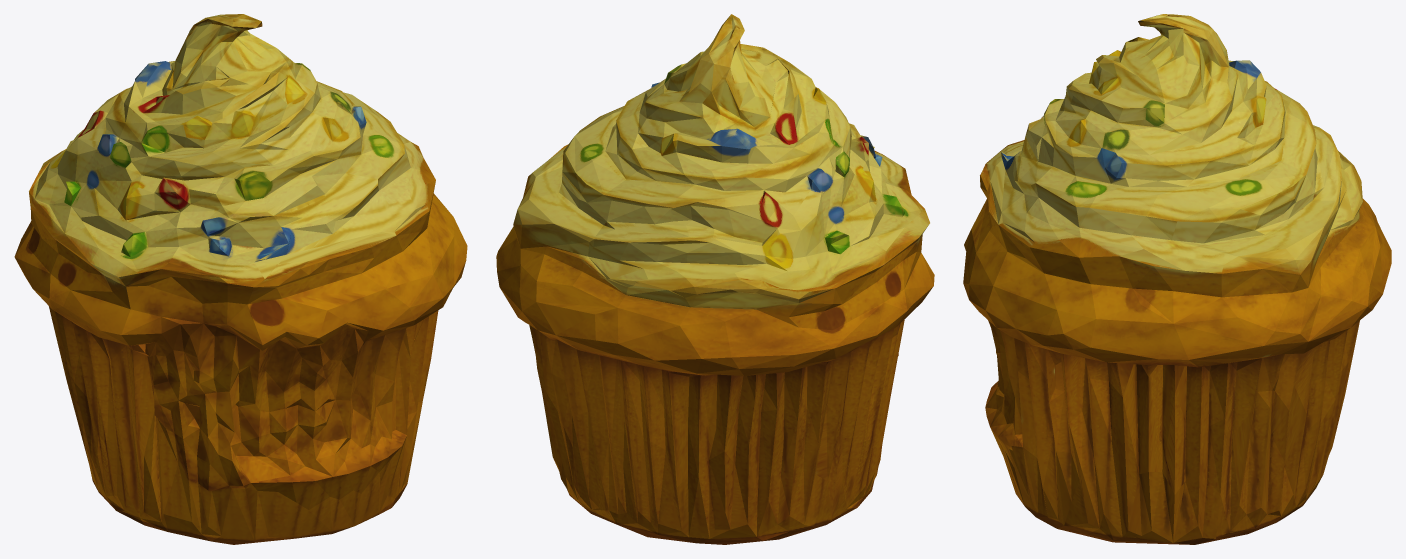
File: Cupcake.fbx
3 views of the same model, side by side, from view 1: azimuth 30°, elevation 25°; view 2: azimuth 150°, elevation 25°; view 3: azimuth 270°, elevation 25° (orthographic).
Visible parts, largest first — view 1: geometry_0.005; view 2: geometry_0.005; view 3: geometry_0.005.
Boxes of the visible parts, x1,y1,x2,y2 form: geometry_0.005: [14, 14, 467, 544]; geometry_0.005: [496, 14, 934, 544]; geometry_0.005: [963, 14, 1391, 544].
Size of the model in its own units: 85.51 by 100 by 83.83.
